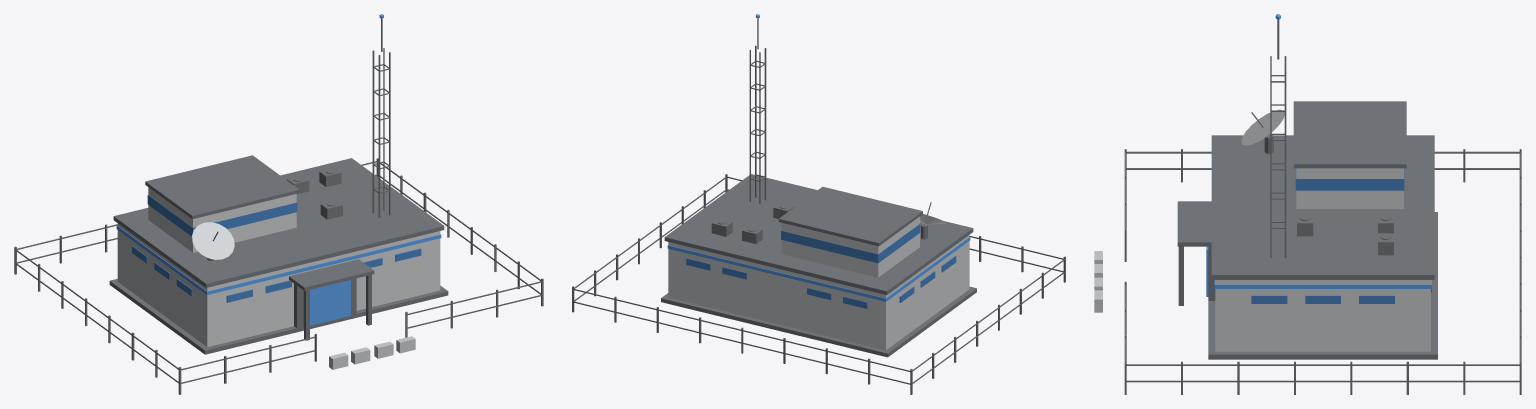
The model's file is Command_Center_01.fbx.
3 views of the same model, side by side, from view 1: azimuth 30°, elevation 25°; view 2: azimuth 150°, elevation 25°; view 3: azimuth 270°, elevation 25° (orthographic). The views are drawn at different scales.
Parts seen in each view (by area): view 1: Command_Center_01_Trim, Command_Center_01_Structure, Command_Center_01_Accent, Command_Center_01_Windows; view 2: Command_Center_01_Trim, Command_Center_01_Structure, Command_Center_01_Windows, Command_Center_01_Accent; view 3: Command_Center_01_Trim, Command_Center_01_Structure, Command_Center_01_Windows, Command_Center_01_Accent.
Part boxes in pixels (bbox=[...]): Command_Center_01_Trim: bbox=[14, 18, 543, 394]; Command_Center_01_Structure: bbox=[117, 187, 440, 369]; Command_Center_01_Accent: bbox=[116, 14, 441, 326]; Command_Center_01_Windows: bbox=[132, 195, 421, 302]; Command_Center_01_Trim: bbox=[572, 18, 1065, 394]; Command_Center_01_Structure: bbox=[668, 214, 969, 350]; Command_Center_01_Windows: bbox=[686, 224, 956, 308]; Command_Center_01_Accent: bbox=[667, 14, 970, 301]; Command_Center_01_Trim: bbox=[1124, 19, 1521, 394]; Command_Center_01_Structure: bbox=[1094, 109, 1430, 351]; Command_Center_01_Windows: bbox=[1214, 168, 1431, 303]; Command_Center_01_Accent: bbox=[1206, 14, 1431, 296].
Bounding box in the file's own units: 28.12 × 19.88 × 23.81.
